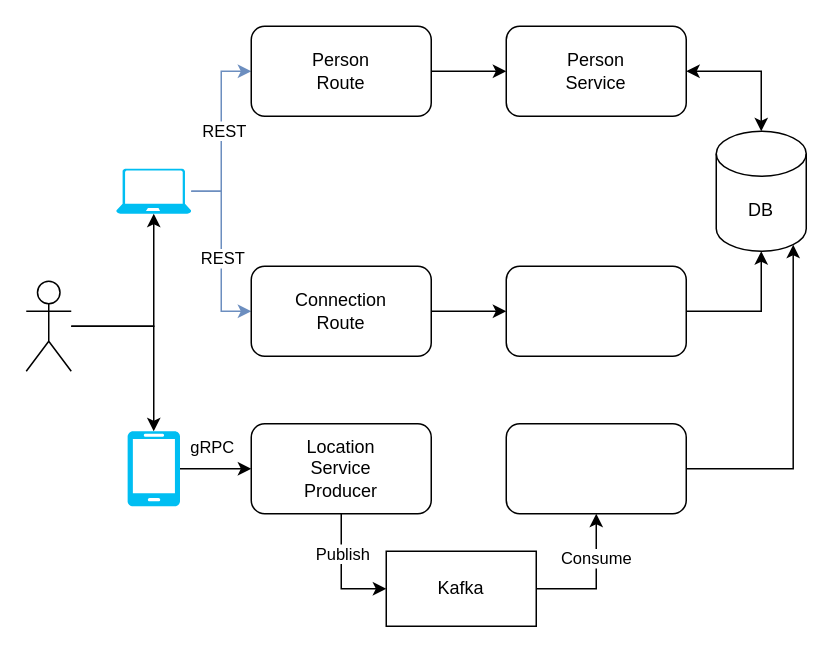
Some shapes in this 833 by 653 pixel diagram are drawn without their labels. Each missing label, with the box of its shape:
Actor: (25, 280, 71, 371)
Connection Service: (505, 265, 686, 356)
Location Service Consumer: (505, 422, 686, 514)
